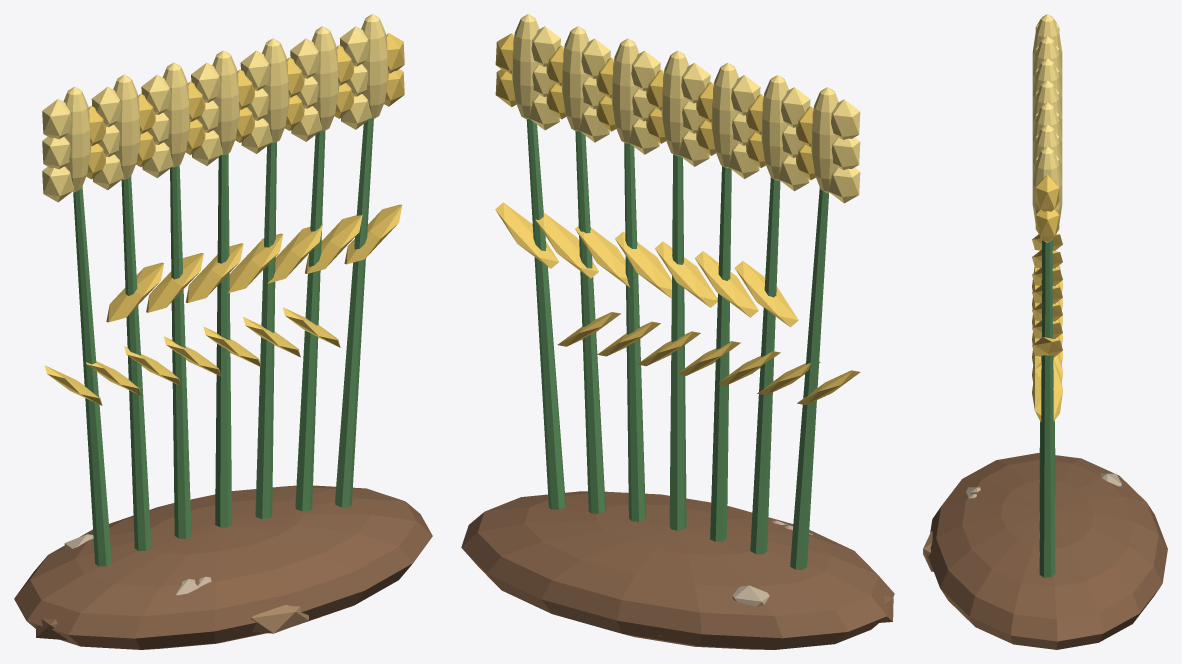
The model's file is (3)wheat.fbx.
3 renders of one model, left to right at view 1: azimuth 30°, elevation 25°; view 2: azimuth 150°, elevation 25°; view 3: azimuth 270°, elevation 25°, orthographic. The views are drawn at different scales.
Visible parts, largest first — view 1: Wheat_Level_3; view 2: Wheat_Level_3; view 3: Wheat_Level_3.
Part boxes in pixels (<box>): Wheat_Level_3: <box>14,14,432,649</box>; Wheat_Level_3: <box>461,14,894,649</box>; Wheat_Level_3: <box>923,14,1167,649</box>.
Bounding box in the file's own units: 281 × 372 × 162.
